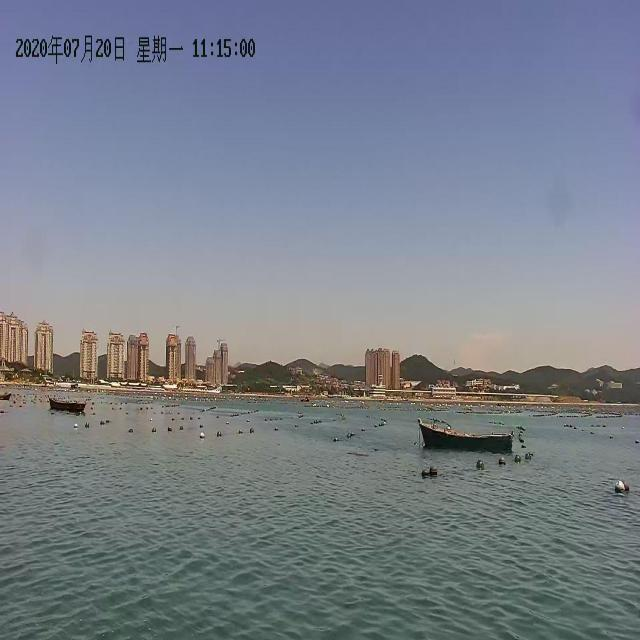ship2: (417, 424, 515, 460), (47, 398, 87, 415)
